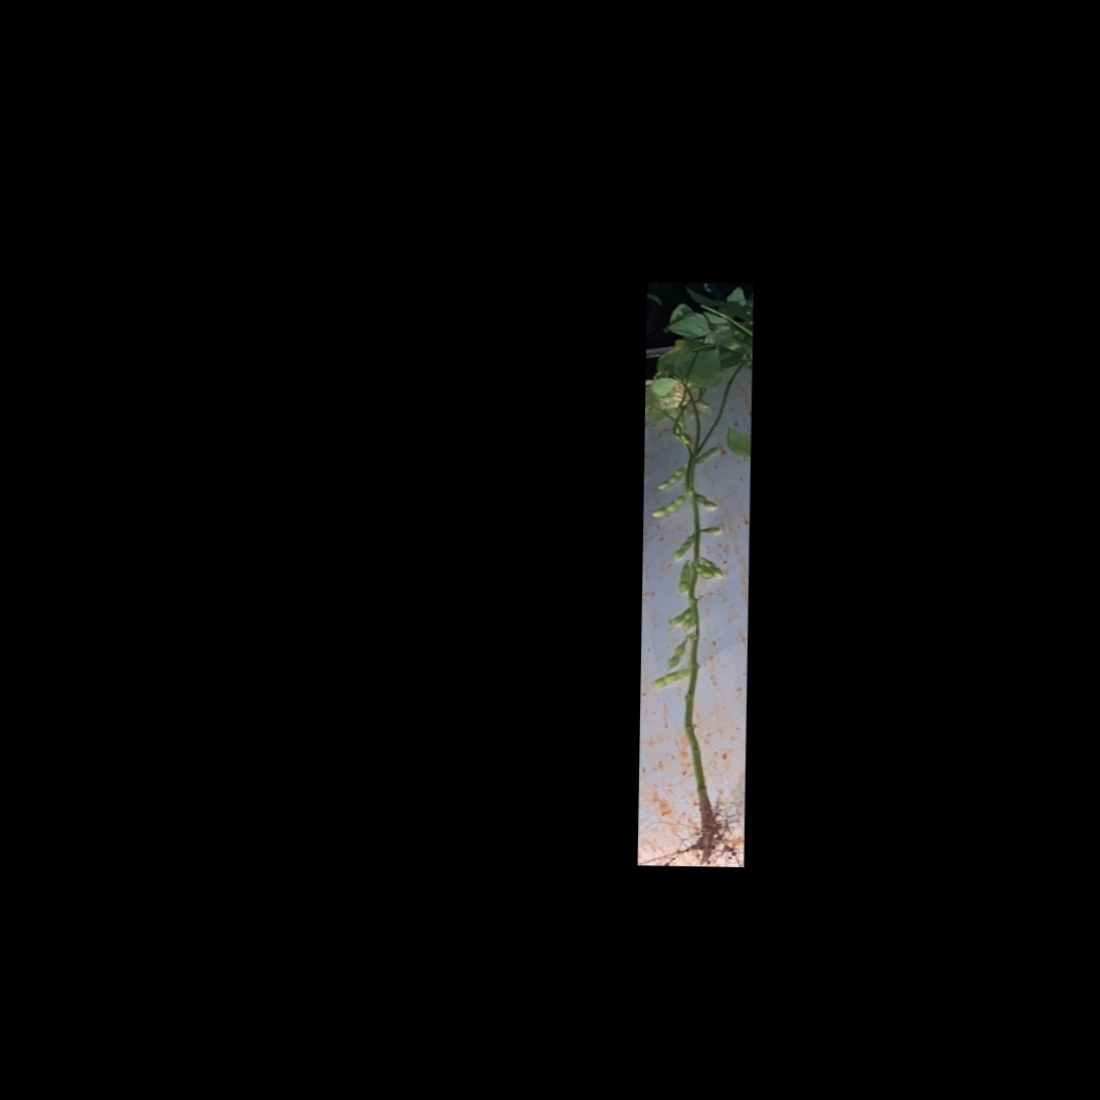pod: (651, 491, 690, 520), (653, 463, 687, 493), (649, 668, 691, 689), (665, 637, 690, 672), (670, 534, 696, 564), (674, 559, 693, 595), (667, 608, 694, 627), (696, 561, 717, 581), (695, 494, 718, 511)
soy: (640, 299, 744, 861)
